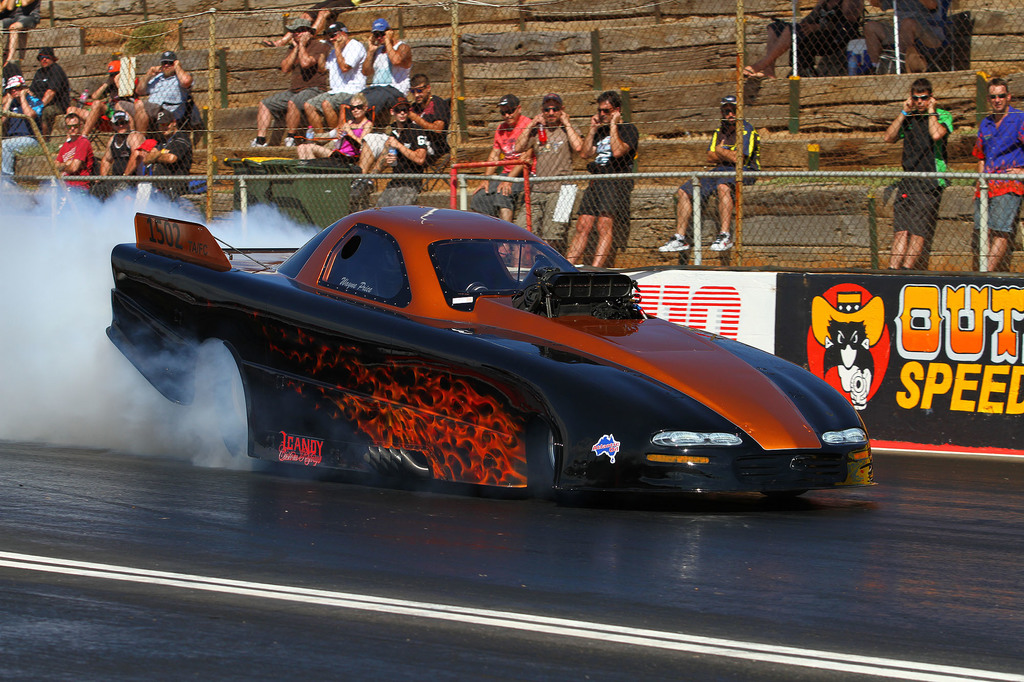person: (740, 0, 868, 80)
